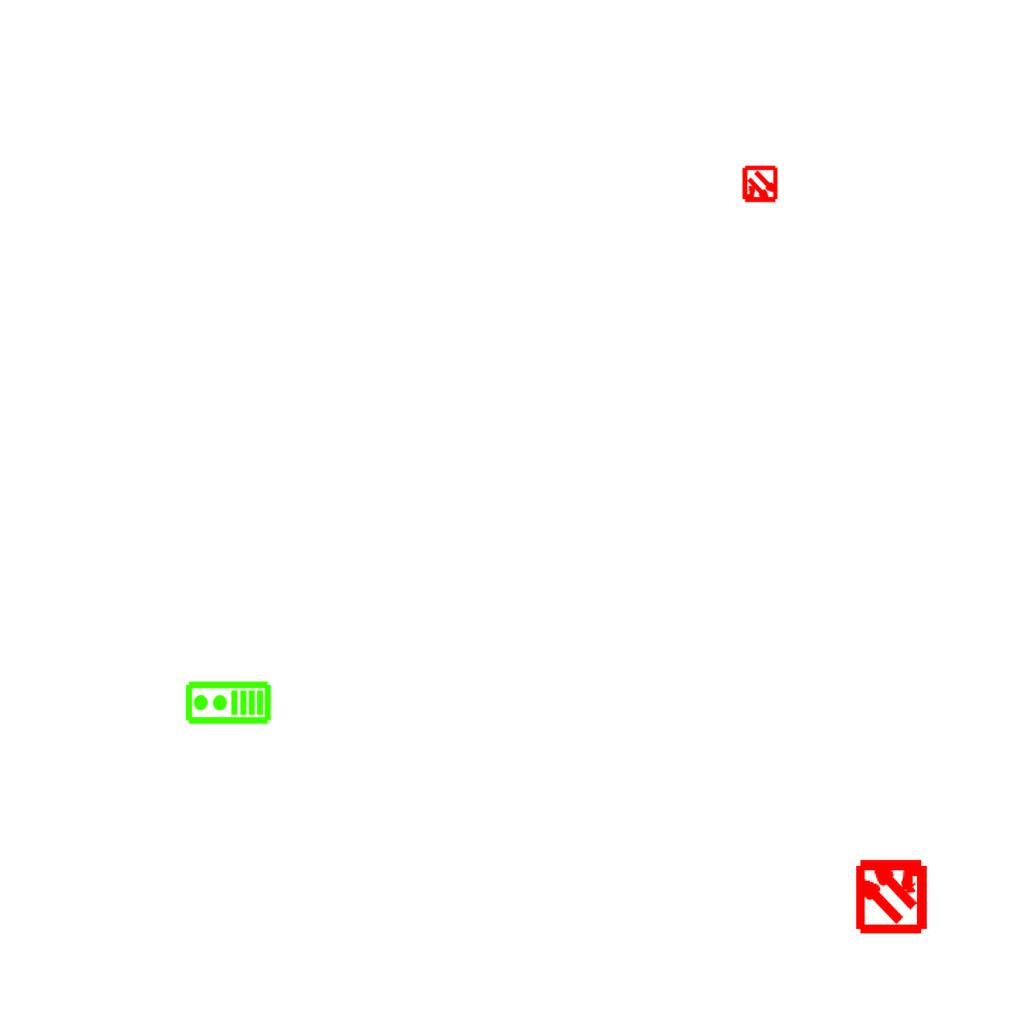Gegensprechanlage_mit_Video: (184, 680, 272, 727)
OT_Multisensormelder_(Kombination_RMO_WMD): (835, 838, 948, 951), (732, 157, 788, 213)
